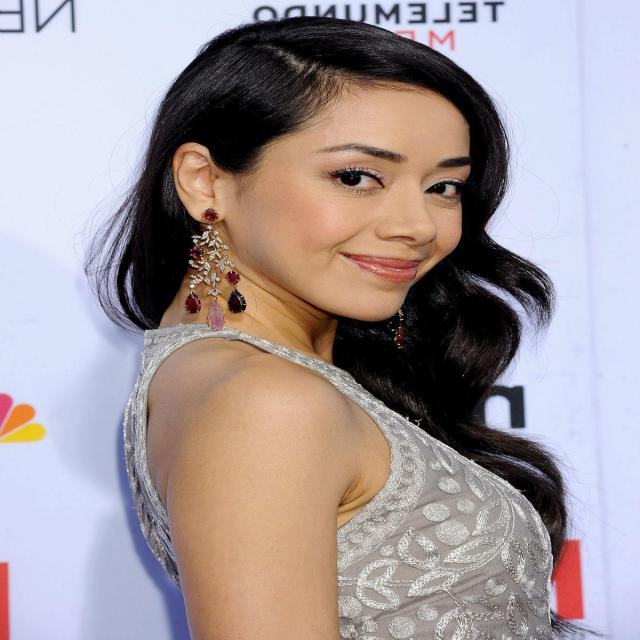no-earmuff: (146, 136, 266, 260)
